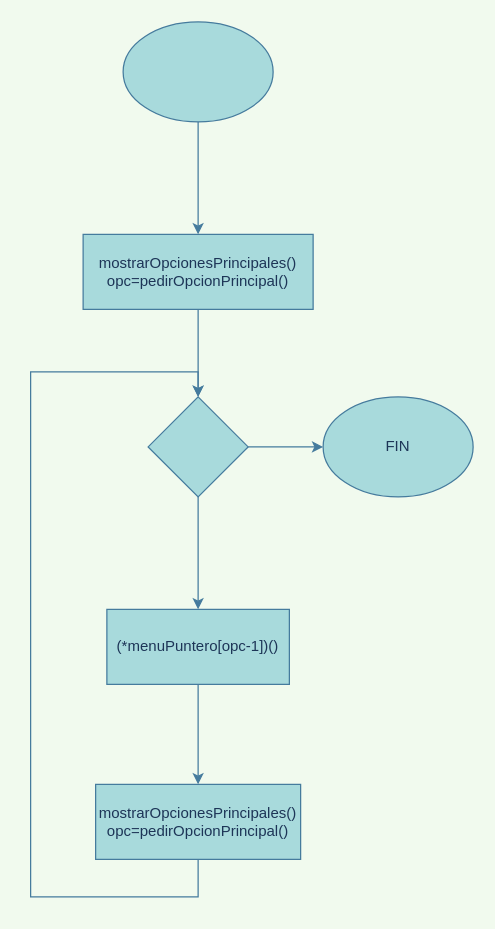
Some shapes in this 495 by 929 pixel diagram are drawn without their labels. The shapes that lost their labels are listed below. From the top down, each one's box as (x1, y1, x2, y2) in pixels, then its label:
(122, 21, 273, 122): INICIO
(147, 396, 248, 497): opc!=5
